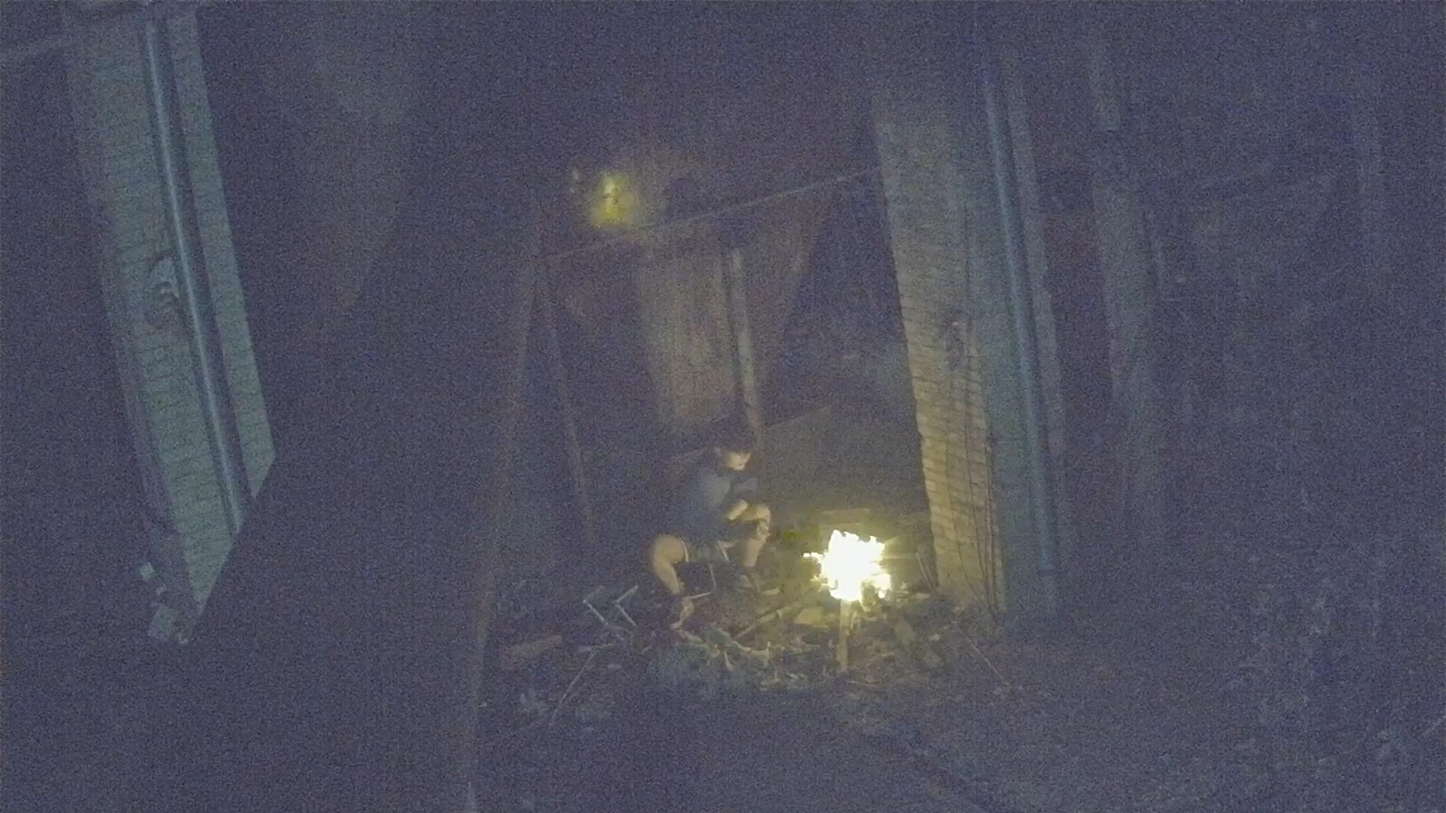fire: (814, 531, 890, 604)
